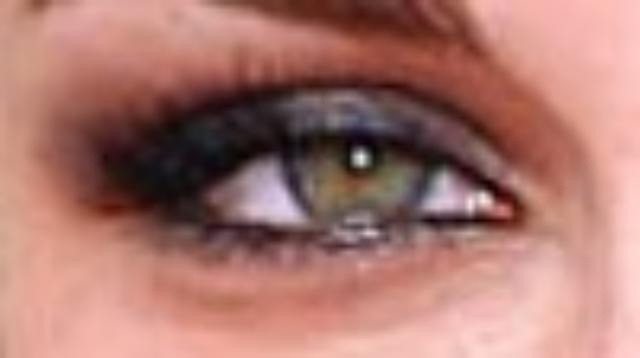eye: (281, 127, 444, 246)
